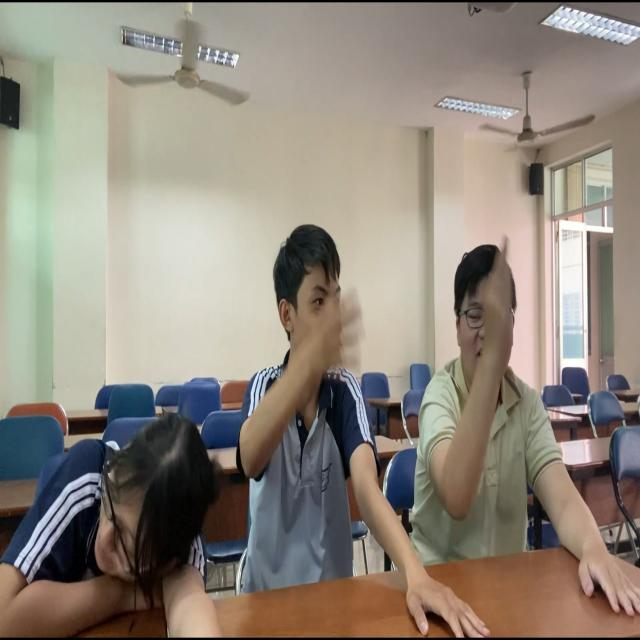raise_hand: (419, 242, 528, 580)
sleep: (1, 414, 217, 640)
